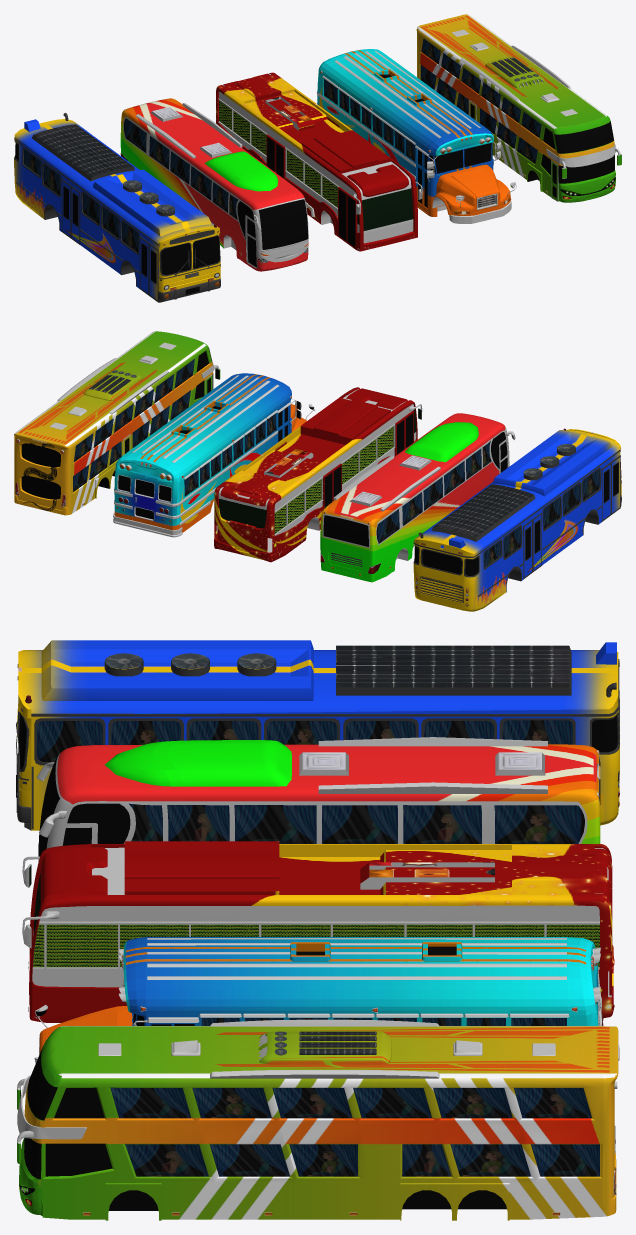
Rendered from All_Buses.fbx.
3 views of the same model, one above another, from view 1: azimuth 30°, elevation 25°; view 2: azimuth 150°, elevation 25°; view 3: azimuth 270°, elevation 25° (orthographic). The views are drawn at different scales.
Visible parts, largest first — view 1: Bus_5, Bus_1, Bus_3, Bus_2, Bus_4, Bus_4_Front_Door; view 2: Bus_5, Bus_1, Bus_3, Bus_2, Bus_4; view 3: Bus_1, Bus_5, Bus_3, Bus_4, Bus_2.
Boxes of the visible parts, box(x1,y1,x2,y2) form: Bus_5: box(14, 113, 220, 302); Bus_1: box(416, 14, 621, 202); Bus_3: box(216, 72, 422, 251); Bus_2: box(317, 49, 516, 223); Bus_4: box(120, 98, 314, 271); Bus_4_Front_Door: box(246, 215, 257, 268); Bus_5: box(413, 428, 621, 611); Bus_1: box(14, 331, 220, 515); Bus_3: box(214, 387, 422, 562); Bus_2: box(113, 373, 315, 537); Bus_4: box(320, 413, 515, 582); Bus_1: box(17, 1019, 619, 1220); Bus_5: box(16, 640, 619, 830); Bus_3: box(22, 841, 614, 1022); Bus_4: box(36, 737, 600, 862); Bus_2: box(34, 937, 603, 1063).
Size of the model in its own units: 692 by 117 by 392.
